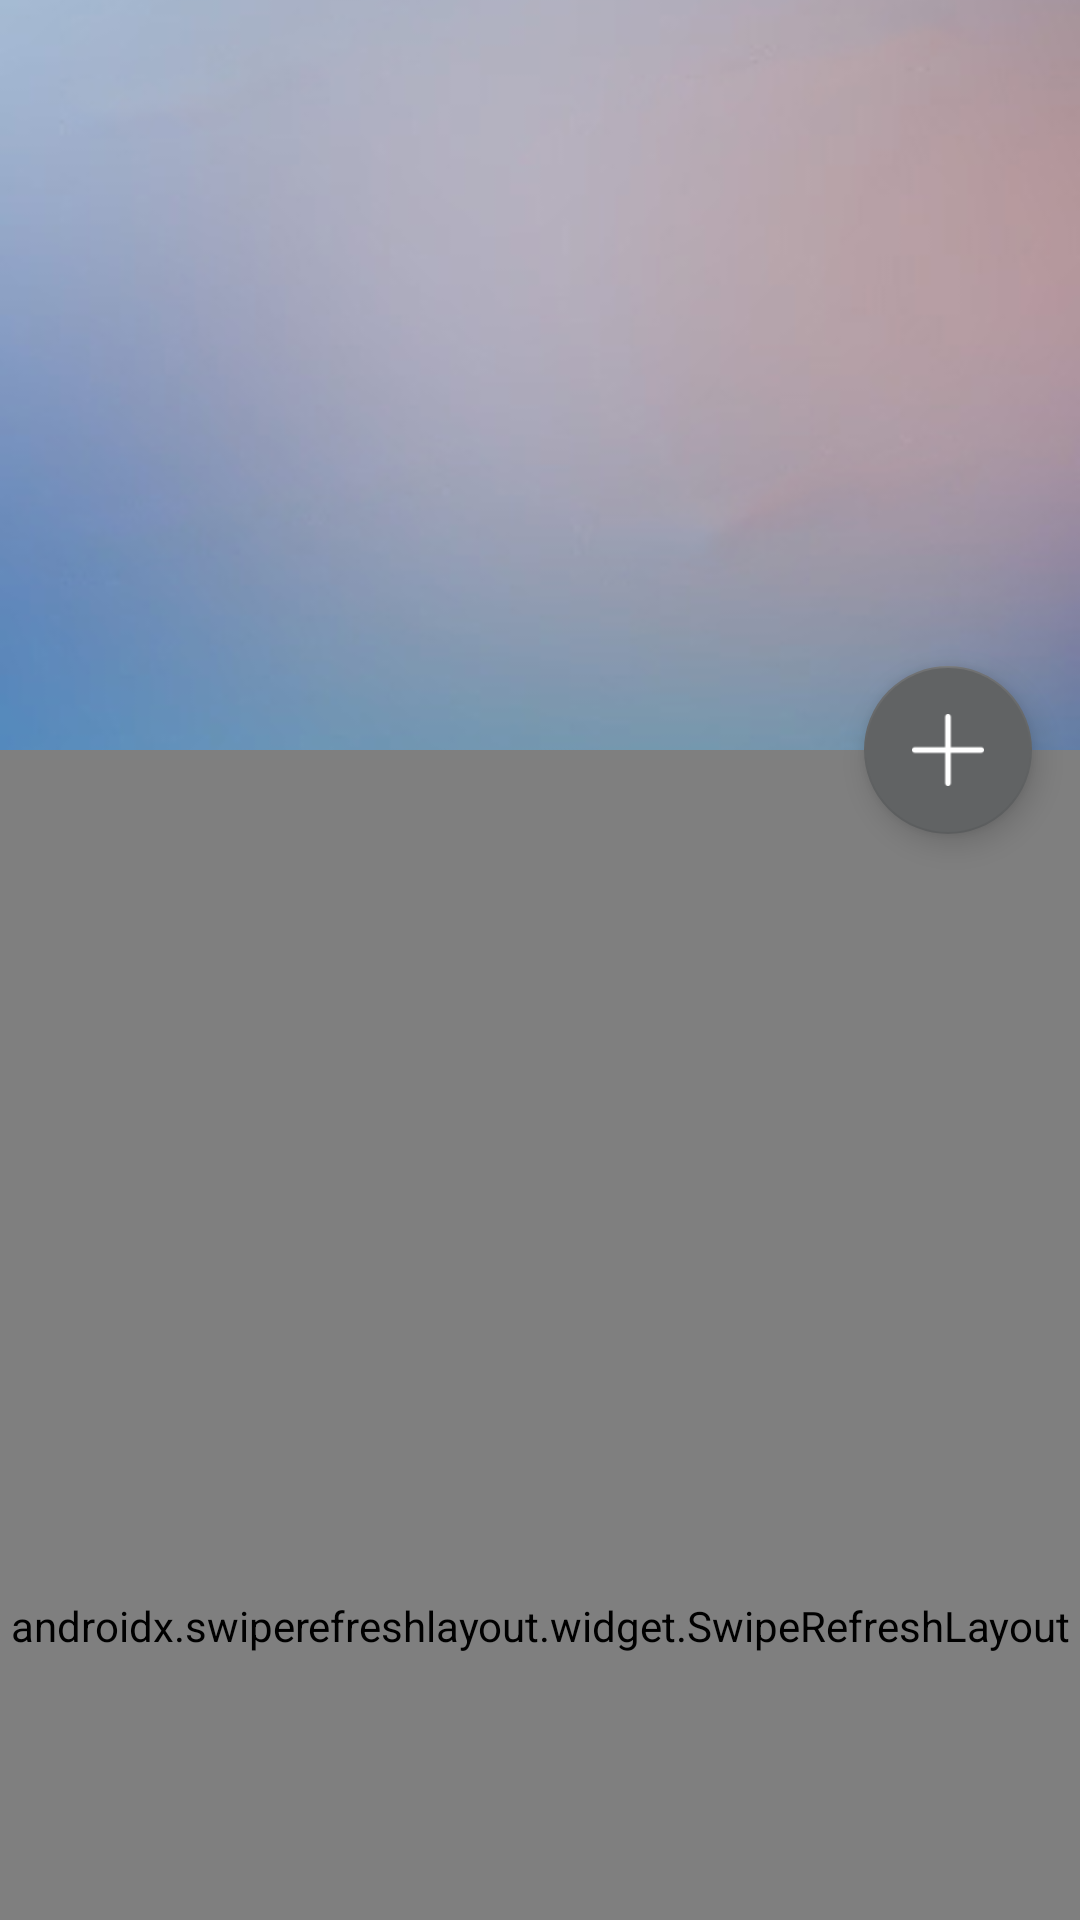

Named icons in this screenshot (1080 x 1920) and their centers, (x=x, y=y):
add: (x=948, y=750)
